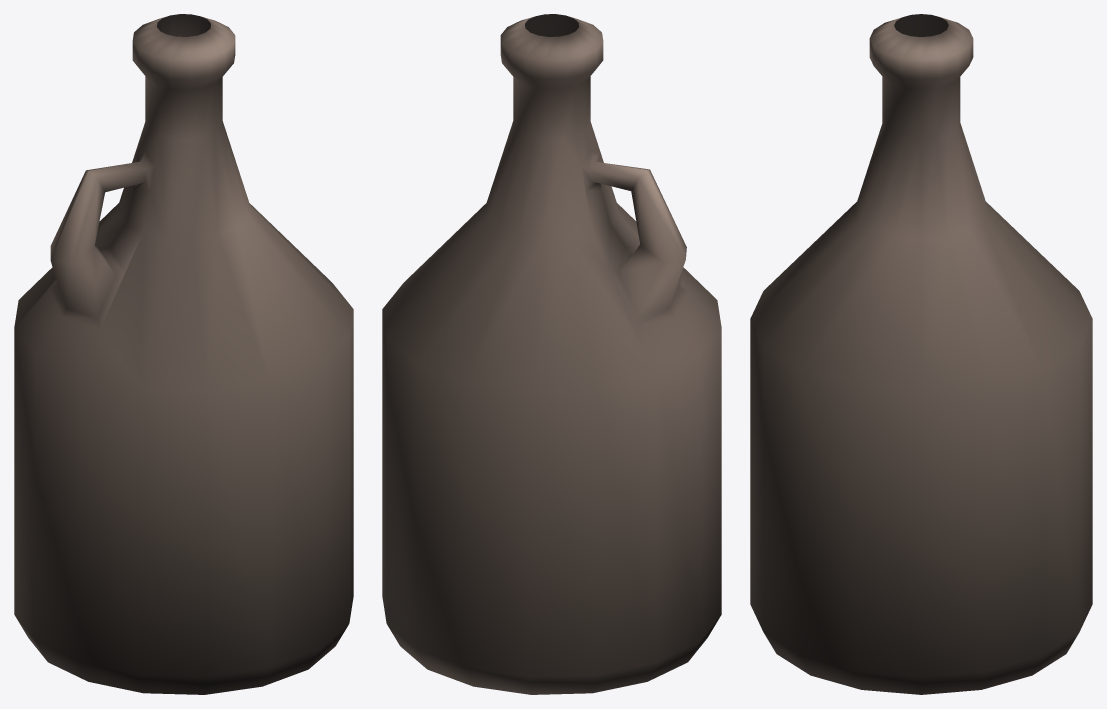
The model's file is clay-jug.glb.
3 views of the same model, side by side, from view 1: azimuth 30°, elevation 25°; view 2: azimuth 150°, elevation 25°; view 3: azimuth 270°, elevation 25° (orthographic).
Visible parts, largest first — view 1: Cylinder; view 2: Cylinder; view 3: Cylinder.
Boxes of the visible parts, bbox=[...] form: Cylinder: bbox=[14, 14, 353, 694]; Cylinder: bbox=[382, 14, 721, 694]; Cylinder: bbox=[750, 14, 1092, 694].
Size of the model in its own units: 2 by 3.89 by 2.
